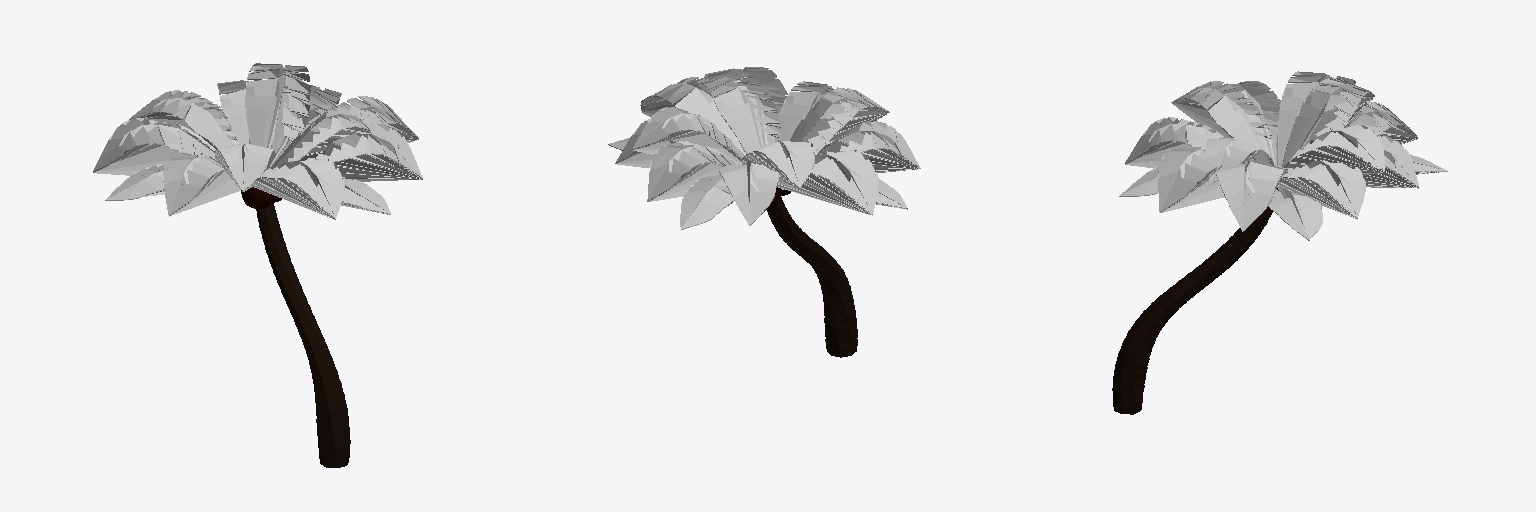
The model's file is low_poly_palm.obj.
3 views of the same model, side by side, from view 1: azimuth 30°, elevation 25°; view 2: azimuth 150°, elevation 25°; view 3: azimuth 270°, elevation 25° (orthographic).
Parts seen in each view (by area): view 1: leaves, tronc; view 2: leaves, tronc; view 3: leaves, tronc.
Part boxes in pixels (x1,y1,x2,y2): leaves: (93, 63, 422, 219); tronc: (256, 201, 350, 467); leaves: (608, 67, 920, 229); tronc: (767, 196, 857, 357); leaves: (1119, 71, 1447, 240); tronc: (1112, 207, 1272, 414).
Size of the model in its own units: 15.7 by 15.63 by 15.64.